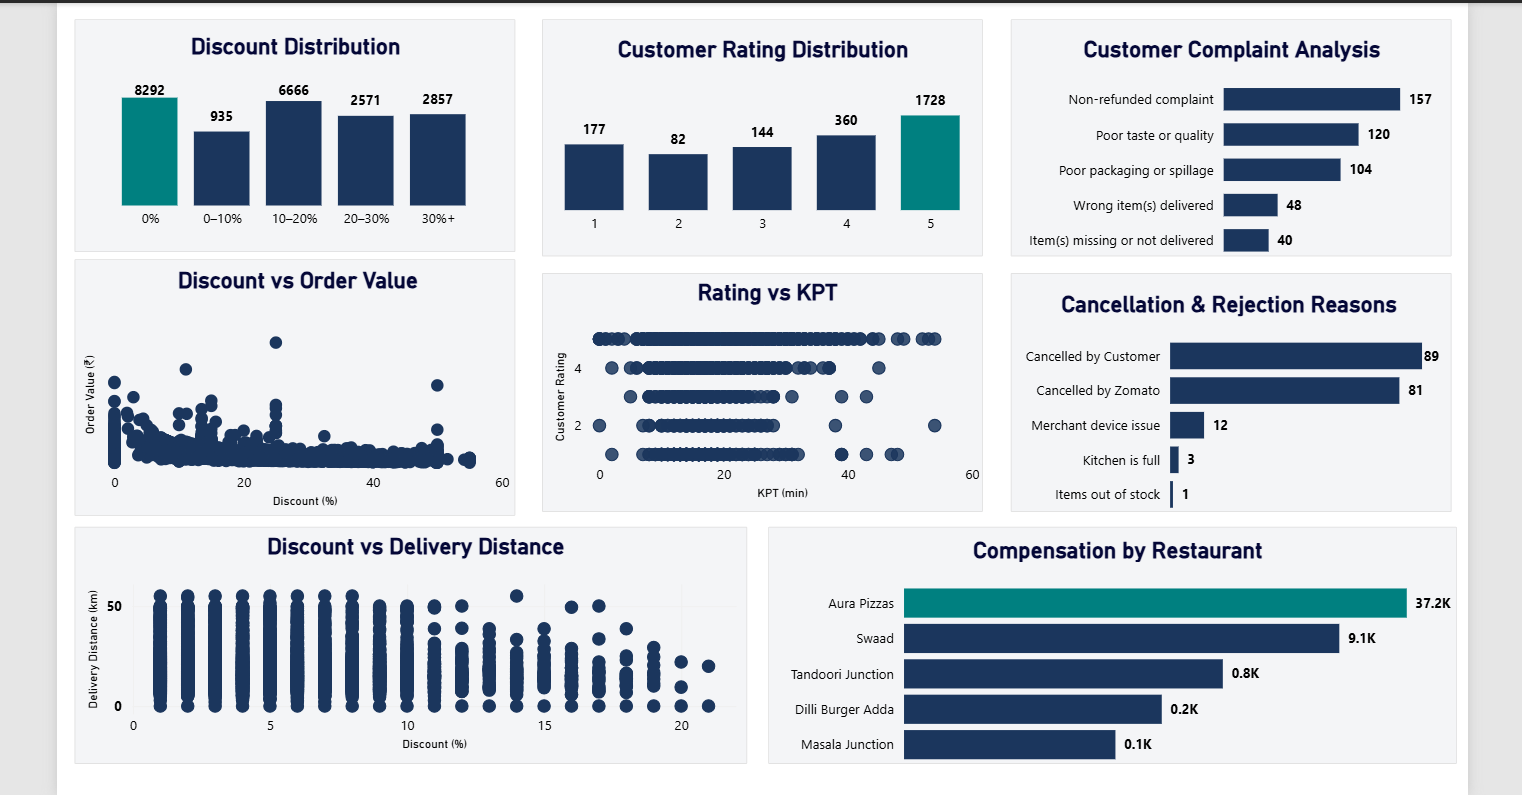

This screenshot's page, from the dashboard's own definition file:
{"tool":"powerbi","page":{"name":"Page 4","canvas":[1280,720],"ordinal":3},"visuals":[{"type":"clusteredColumnChart","title":"Discount Distribution","fields":{"Category":["food_delivery_analysis food_orders.Discount Bucket"],"Y":["Count(food_delivery_analysis food_orders.order_id)"]},"box":[16,15,400,211],"z":0},{"type":"clusteredColumnChart","title":"Customer Rating Distribution","fields":{"Category":["food_delivery_analysis food_orders.rating"],"Y":["Count(food_delivery_analysis food_orders.order_id)"]},"box":[440,15,400,215],"z":1000},{"type":"clusteredBarChart","title":"Customer Complaint Analysis","fields":{"Category":["food_delivery_analysis food_orders.customer_complaint_tag"],"Y":["Count(food_delivery_analysis food_orders.order_id)"]},"box":[865,15,400,215],"z":2000},{"type":"scatterChart","title":"Discount vs Order Value","fields":{"Category":["food_delivery_analysis food_orders.order_id"],"X":["Sum(food_delivery_analysis food_orders.discount_percentage)"],"Y":["food_delivery_analysis food_orders.total"]},"box":[15.7,233,400,233],"z":3000},{"type":"scatterChart","title":"Rating vs KPT","fields":{"Category":["food_delivery_analysis food_orders.order_id"],"X":["Sum(food_delivery_analysis food_orders.kpt_duration_minutes)"],"Y":["Sum(food_delivery_analysis food_orders.rating)"]},"box":[440,245,400,217],"z":4000},{"type":"clusteredBarChart","title":"Cancellation & Rejection Reasons","fields":{"Category":["food_delivery_analysis food_orders.cancellation_rejection_reason"],"Y":["Count(food_delivery_analysis food_orders.order_id)"]},"box":[865,245,400,217],"z":5000},{"type":"scatterChart","title":"Discount vs Delivery Distance","fields":{"Category":["food_delivery_analysis food_orders.order_id"],"X":["Sum(food_delivery_analysis food_orders.distance_km)"],"Y":["Sum(food_delivery_analysis food_orders.discount_percentage)"]},"box":[16,475,610,215],"z":6000},{"type":"clusteredBarChart","title":"Compensation by Restaurant","fields":{"Category":["food_delivery_analysis food_orders.restaurant_name"],"Y":["food_delivery_analysis food_orders.Disp_Compensation"]},"box":[645,475,625,215],"z":7000}]}

Visuals, with their boxes on the page's 1280x720 design canvas (x1, y1, x2, y2). These are canvas units, not pixel positions in the 1522x795 screenshot, which may show the page scaled, cropped or inside an application window:
"Discount Distribution" clusteredColumnChart: (left=16, top=15, right=416, bottom=226)
"Customer Rating Distribution" clusteredColumnChart: (left=440, top=15, right=840, bottom=230)
"Customer Complaint Analysis" clusteredBarChart: (left=865, top=15, right=1265, bottom=230)
"Discount vs Order Value" scatterChart: (left=16, top=233, right=416, bottom=466)
"Rating vs KPT" scatterChart: (left=440, top=245, right=840, bottom=462)
"Cancellation & Rejection Reasons" clusteredBarChart: (left=865, top=245, right=1265, bottom=462)
"Discount vs Delivery Distance" scatterChart: (left=16, top=475, right=626, bottom=690)
"Compensation by Restaurant" clusteredBarChart: (left=645, top=475, right=1270, bottom=690)
